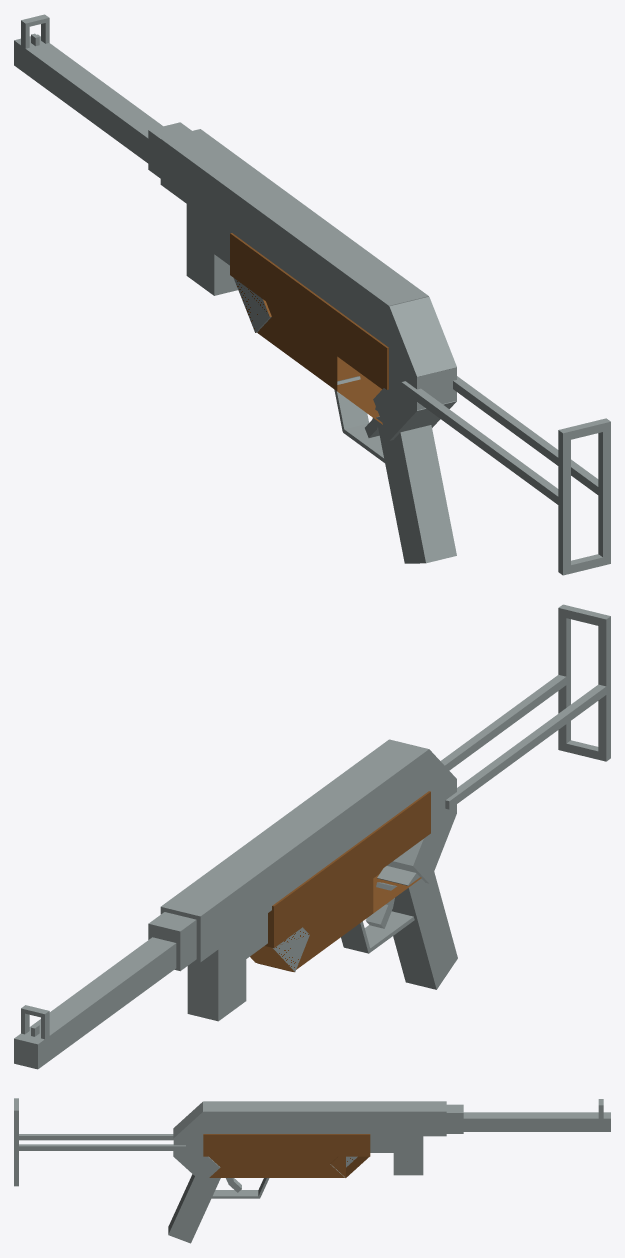
Rendered from mp40_unloaded.obj.
3 views of the same model, one above another, from view 1: azimuth 30°, elevation 25°; view 2: azimuth 150°, elevation 25°; view 3: azimuth 270°, elevation 25° (orthographic). The views are drawn at different scales.
Parts seen in each view (by area): view 1: cube; view 2: cube; view 3: cube.
Part boxes in pixels (<box>): cube: <box>14,14,610,575</box>; cube: <box>14,604,610,1069</box>; cube: <box>14,1098,610,1243</box>.
Bounding box in the file's own units: 0.075 × 0.3865 × 1.52.
